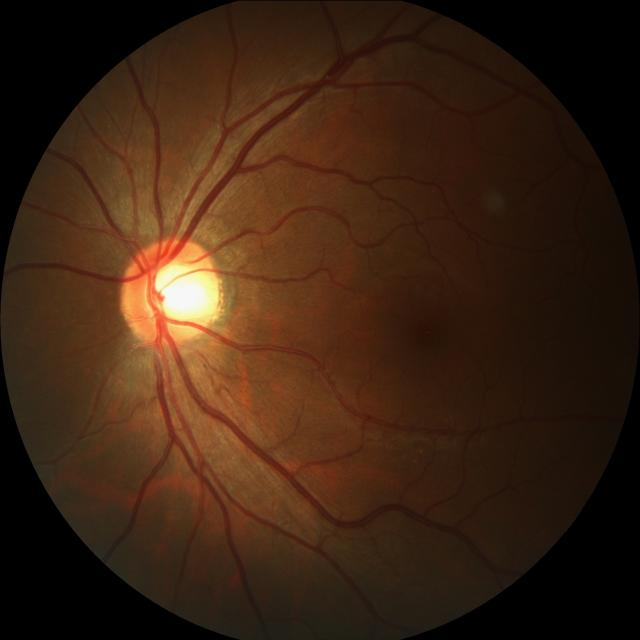OC: (147, 258, 215, 324)
OD: (119, 235, 221, 349)
